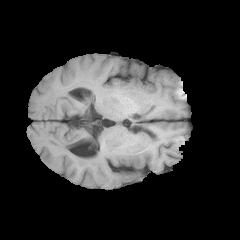glioma: (77, 135, 159, 176)
